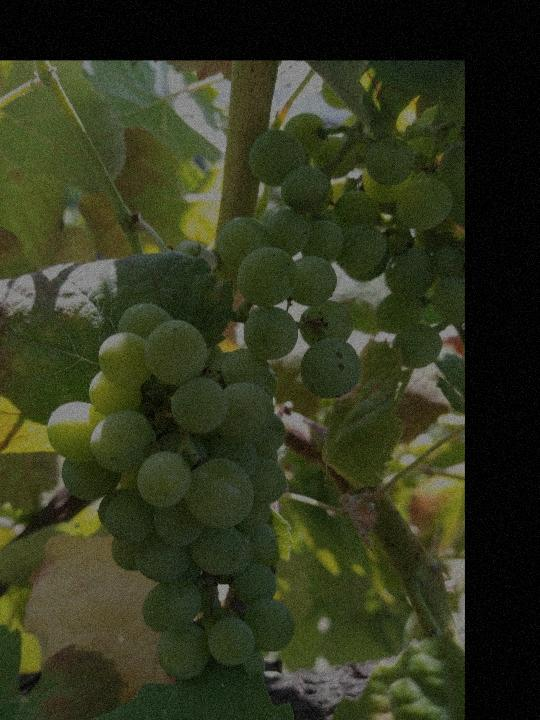grape: (43, 298, 296, 686), (214, 111, 458, 400)
